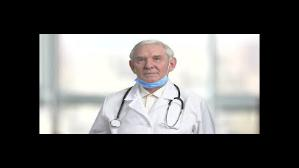mask_weared_incorrect: (134, 54, 170, 88)
